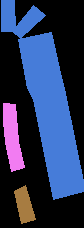parkingspot: (18, 32, 84, 199), (3, 103, 24, 171), (12, 5, 45, 38), (14, 185, 35, 223), (1, 0, 15, 31)
